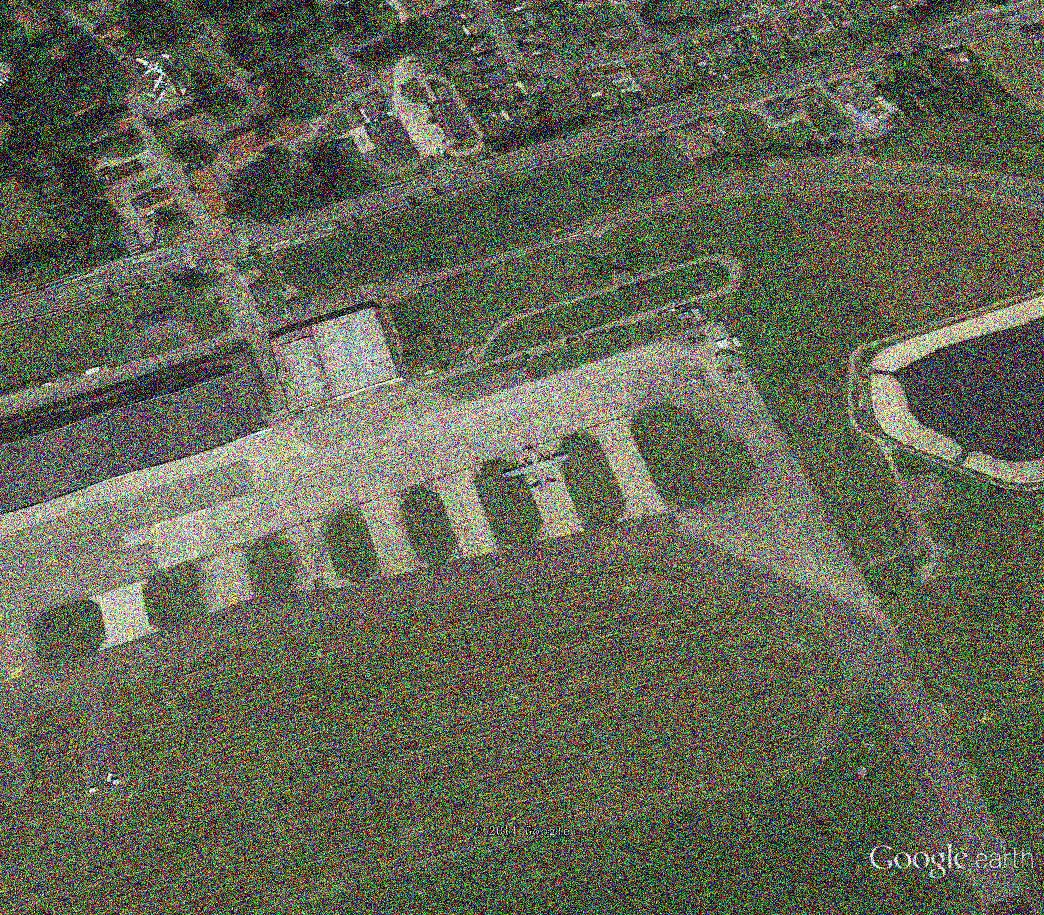aircraft: (500, 446, 571, 494), (134, 55, 171, 81), (139, 86, 180, 106), (143, 70, 170, 91)
